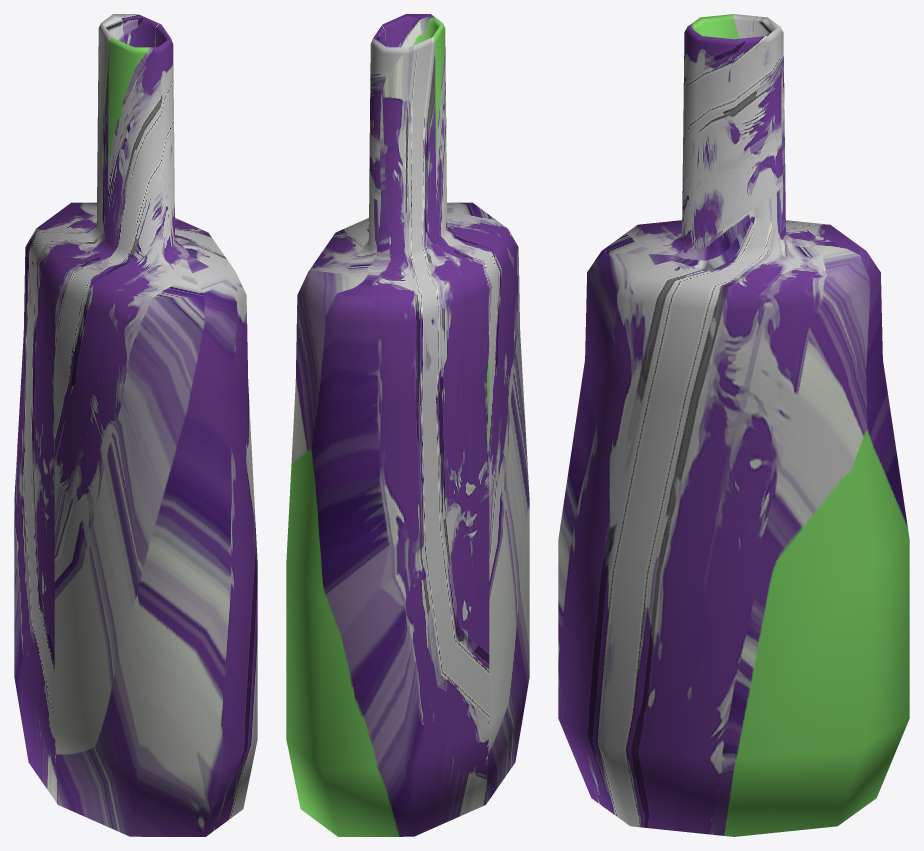
File: ludwik.fbx
The picture shows the model from 3 angles, left to right: view 1: azimuth 30°, elevation 25°; view 2: azimuth 150°, elevation 25°; view 3: azimuth 270°, elevation 25°; orthographic projection. The views are drawn at different scales.
Visible parts, largest first — view 1: Cube.006; view 2: Cube.006; view 3: Cube.006.
Boxes of the visible parts, x1,y1,x2,y2 form: Cube.006: (14,14,257,836); Cube.006: (286,14,529,836); Cube.006: (558,14,909,836).
Size of the model in its own units: 24.74 by 110 by 45.3.
